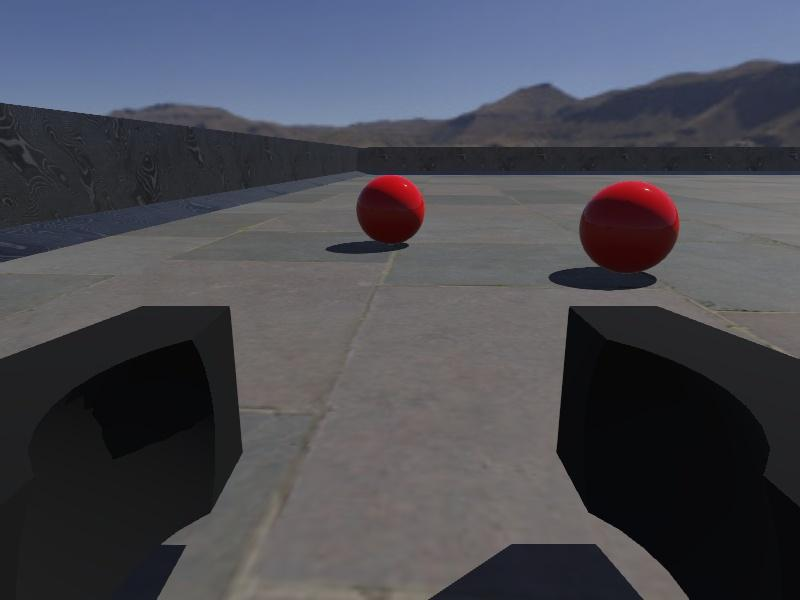red ball: (578, 179, 680, 275), (355, 173, 426, 246)
